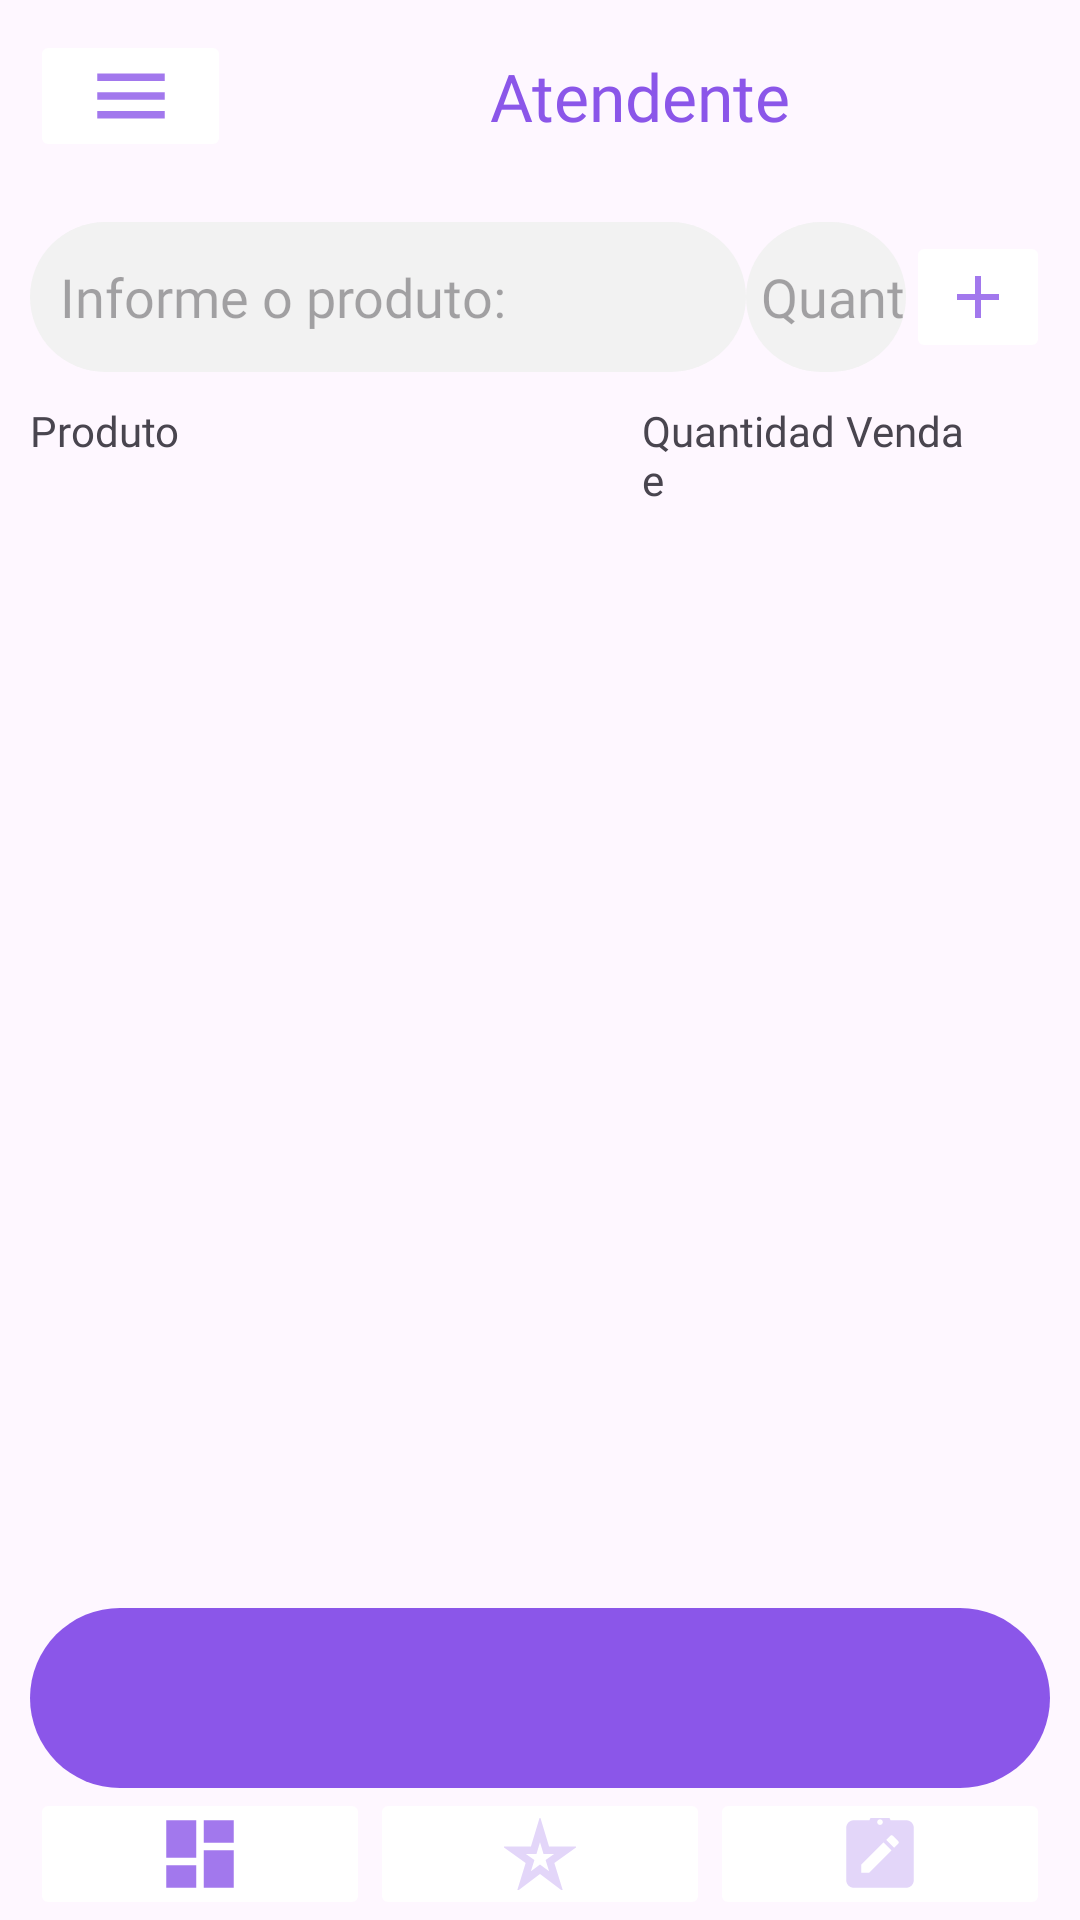

Named icons in this screenshot (1080px x 1920px) and their centers, point (x, y):
add: point (978, 297)
menu: point (131, 96)
star: point (540, 1854)
task: point (880, 1852)
